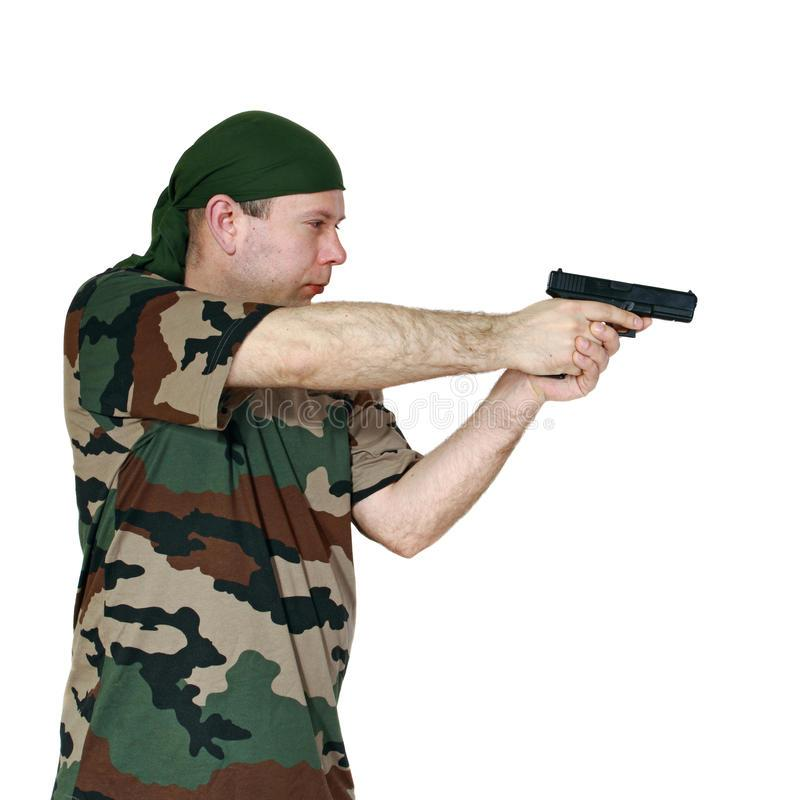criminal: (47, 105, 699, 800)
weapon: (531, 264, 699, 384)
